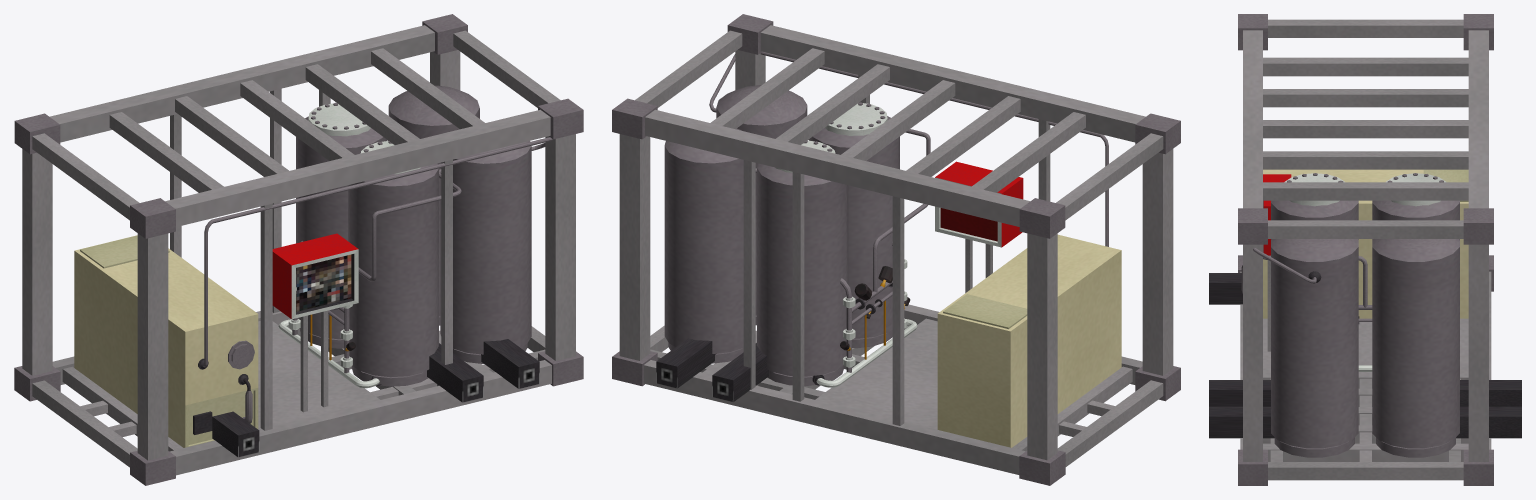
The model's file is cryo_distillator.obj.
3 views of the same model, side by side, from view 1: azimuth 30°, elevation 25°; view 2: azimuth 150°, elevation 25°; view 3: azimuth 270°, elevation 25° (orthographic). The views are drawn at different scales.
Parts seen in each view (by area): view 1: Cube.003_Cube.001; view 2: Cube.003_Cube.001; view 3: Cube.003_Cube.001.
Boxes of the visible parts, x1=… form: Cube.003_Cube.001: x1=14, y1=14, x2=583, y2=485; Cube.003_Cube.001: x1=612, y1=14, x2=1180, y2=485; Cube.003_Cube.001: x1=1209, y1=14, x2=1521, y2=485.
Size of the model in its own units: 7.81 by 4.59 by 4.94.
